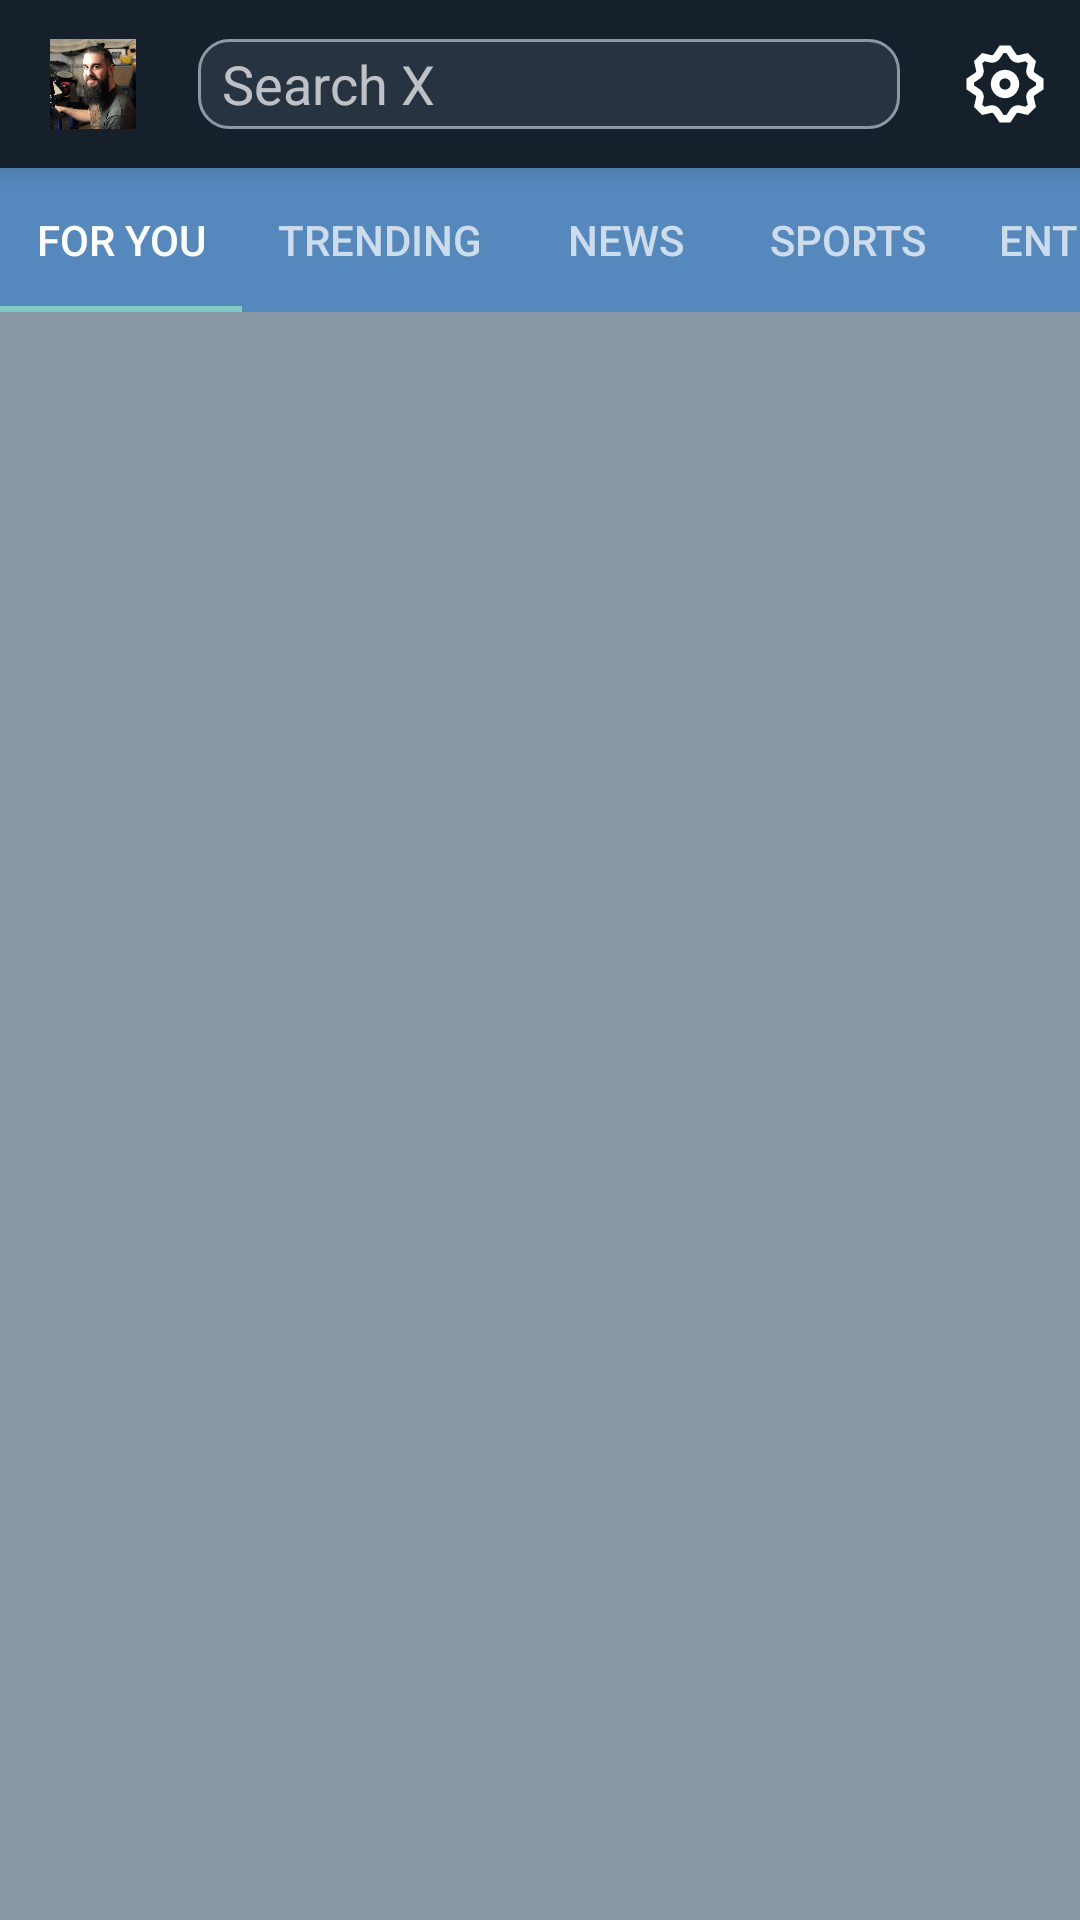

Screen size 1080 x 1920. Icon name, then its box in pixels as (x1, y1, x2, y2):
profile picture: (50, 39, 136, 129)
